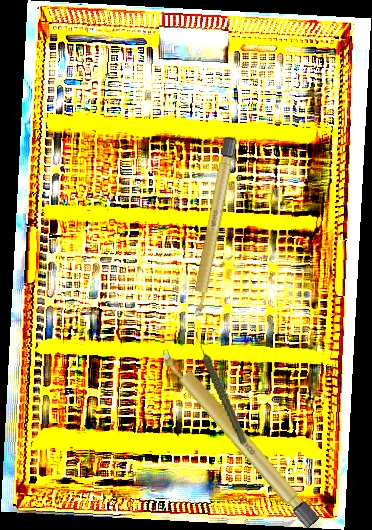Handpiece: (197, 333, 249, 449)
Scalpel Handle: (156, 344, 321, 530), (188, 136, 238, 320)
